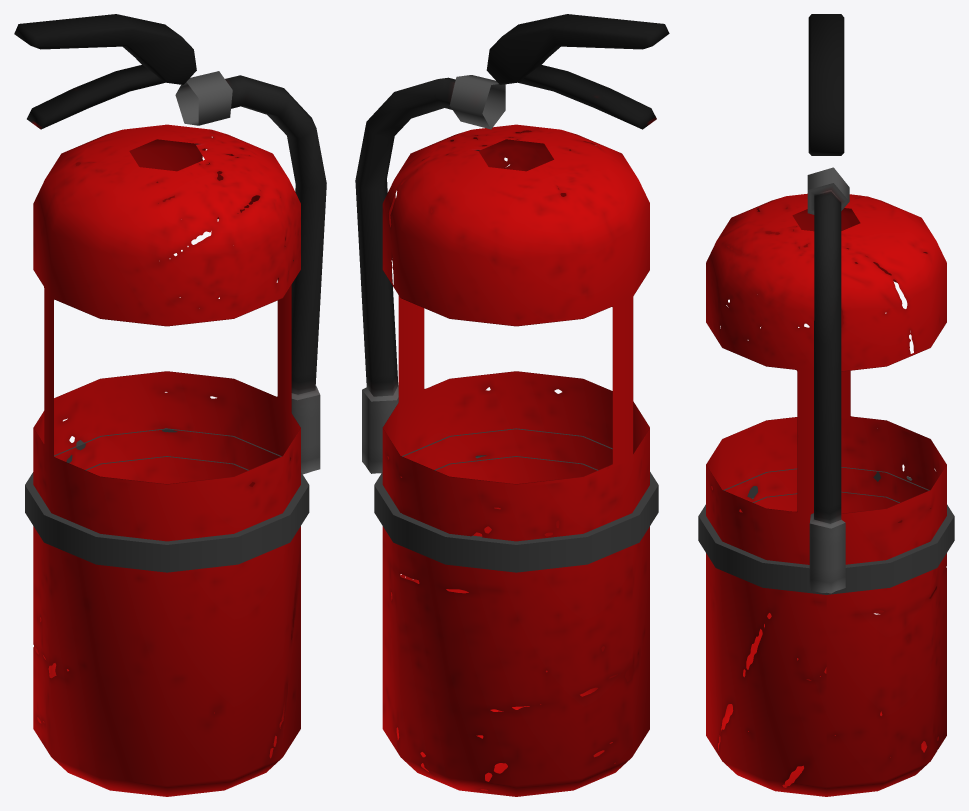
The model's file is fire_extinguisher_small.fbx.
3 views of the same model, side by side, from view 1: azimuth 30°, elevation 25°; view 2: azimuth 150°, elevation 25°; view 3: azimuth 270°, elevation 25° (orthographic). The views are drawn at different scales.
Parts seen in each view (by area): view 1: fire_extinguisher_small; view 2: fire_extinguisher_small; view 3: fire_extinguisher_small.
Boxes of the visible parts, left/top/right/bottom form: fire_extinguisher_small: left=14, top=14, right=326, bottom=796; fire_extinguisher_small: left=355, top=14, right=669, bottom=796; fire_extinguisher_small: left=698, top=14, right=954, bottom=796.
Size of the model in its own units: 30.71 by 72.71 by 24.89.
